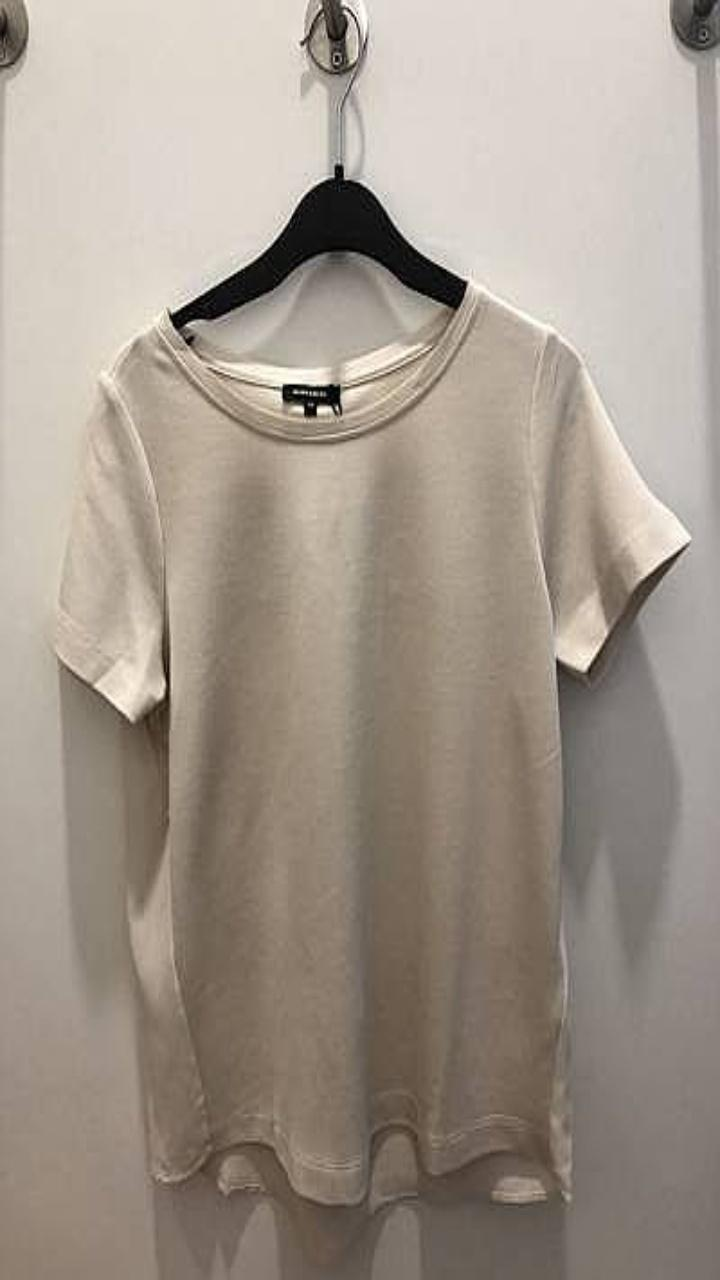T-Shirt: (52, 278, 690, 1228)
